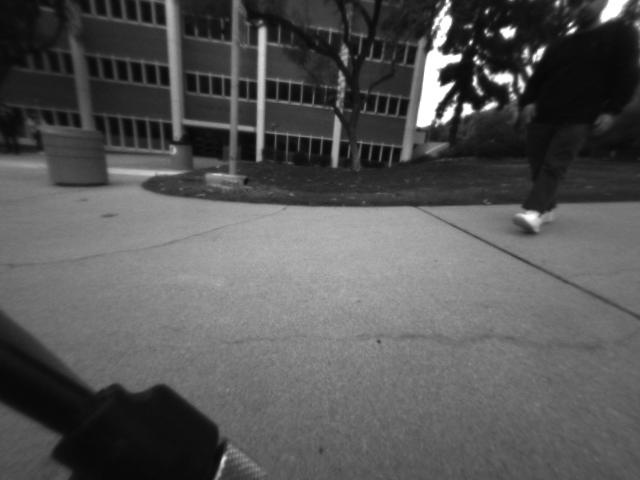trashcan: (32, 116, 118, 197), (163, 136, 195, 170)
